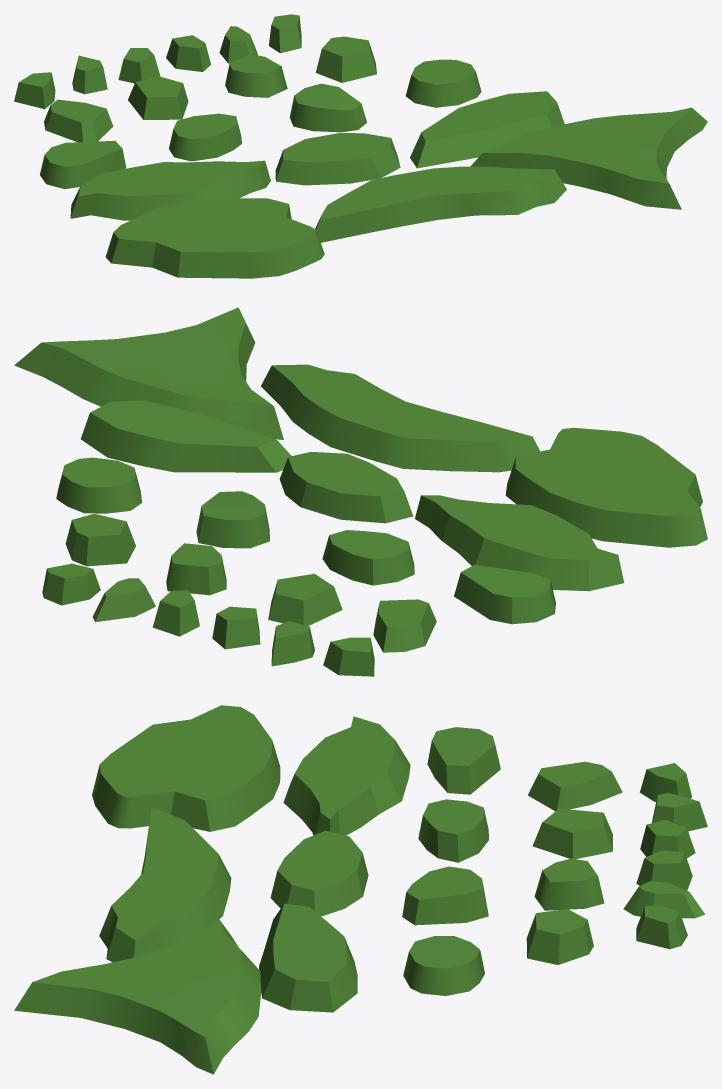
File: grass_layer_crumbs_big_temp.fbx
3 views of the same model, one above another, from view 1: azimuth 30°, elevation 25°; view 2: azimuth 150°, elevation 25°; view 3: azimuth 270°, elevation 25° (orthographic). The views are drawn at different scales.
Visible parts, largest first — view 1: grass_layer_crumb_big_C, grass_layer_crumb_big_A, grass_layer_crumb_big_B, grass_layer_crumb_medium_A, grass_layer_crumb_medium_B, grass_layer_crumb_medium_C, grass_layer_crumb_small_A, grass_layer_crumb_small_C, grass_layer_crumb_small_D, grass_layer_crumb_small_B, grass_layer_crumb_mini_A, grass_layer_crumb_mini_D (+8 smaller); view 2: grass_layer_crumb_big_C, grass_layer_crumb_big_A, grass_layer_crumb_big_B, grass_layer_crumb_medium_A, grass_layer_crumb_medium_B, grass_layer_crumb_medium_C, grass_layer_crumb_small_A, grass_layer_crumb_small_B, grass_layer_crumb_small_D, grass_layer_crumb_small_C, grass_layer_crumb_mini_D, grass_layer_crumb_mini_B (+8 smaller); view 3: grass_layer_crumb_big_A, grass_layer_crumb_big_C, grass_layer_crumb_big_B, grass_layer_crumb_medium_A, grass_layer_crumb_medium_B, grass_layer_crumb_medium_C, grass_layer_crumb_small_C, grass_layer_crumb_small_D, grass_layer_crumb_small_A, grass_layer_crumb_small_B, grass_layer_crumb_mini_A, grass_layer_crumb_mini_B (+8 smaller).
Part boxes in pixels (x1=…): grass_layer_crumb_big_C: x1=105, y1=198, x2=324, y2=278; grass_layer_crumb_big_A: x1=470, y1=107, x2=707, y2=209; grass_layer_crumb_big_B: x1=315, y1=166, x2=566, y2=242; grass_layer_crumb_medium_A: x1=70, y1=160, x2=270, y2=220; grass_layer_crumb_medium_B: x1=410, y1=91, x2=564, y2=168; grass_layer_crumb_medium_C: x1=275, y1=133, x2=400, y2=185; grass_layer_crumb_small_A: x1=40, y1=140, x2=126, y2=189; grass_layer_crumb_small_C: x1=289, y1=83, x2=367, y2=132; grass_layer_crumb_small_D: x1=405, y1=59, x2=481, y2=107; grass_layer_crumb_small_B: x1=169, y1=113, x2=241, y2=161; grass_layer_crumb_mini_A: x1=44, y1=99, x2=113, y2=142; grass_layer_crumb_mini_D: x1=315, y1=36, x2=376, y2=82; grass_layer_crumb_big_C: x1=505, y1=427, x2=707, y2=547; grass_layer_crumb_big_A: x1=14, y1=307, x2=283, y2=439; grass_layer_crumb_big_B: x1=261, y1=364, x2=539, y2=472; grass_layer_crumb_medium_A: x1=415, y1=495, x2=624, y2=591; grass_layer_crumb_medium_B: x1=81, y1=400, x2=291, y2=472; grass_layer_crumb_medium_C: x1=279, y1=452, x2=413, y2=523; grass_layer_crumb_small_A: x1=454, y1=565, x2=555, y2=624; grass_layer_crumb_small_B: x1=322, y1=530, x2=414, y2=585; grass_layer_crumb_small_D: x1=56, y1=457, x2=142, y2=513; grass_layer_crumb_small_C: x1=196, y1=491, x2=269, y2=548; grass_layer_crumb_mini_D: x1=65, y1=513, x2=135, y2=566; grass_layer_crumb_mini_B: x1=268, y1=573, x2=342, y2=625; grass_layer_crumb_big_A: x1=14, y1=919, x2=261, y2=1074; grass_layer_crumb_big_C: x1=92, y1=705, x2=280, y2=831; grass_layer_crumb_big_B: x1=99, y1=808, x2=231, y2=962; grass_layer_crumb_medium_A: x1=283, y1=716, x2=410, y2=835; grass_layer_crumb_medium_B: x1=259, y1=903, x2=357, y2=1012; grass_layer_crumb_medium_C: x1=270, y1=830, x2=368, y2=916; grass_layer_crumb_small_C: x1=402, y1=866, x2=488, y2=925; grass_layer_crumb_small_D: x1=403, y1=936, x2=484, y2=995; grass_layer_crumb_small_A: x1=427, y1=727, x2=500, y2=794; grass_layer_crumb_small_B: x1=418, y1=799, x2=488, y2=862; grass_layer_crumb_mini_A: x1=528, y1=761, x2=622, y2=811; grass_layer_crumb_mini_B: x1=532, y1=808, x2=612, y2=859.
Bounding box in the file's own units: 470 × 18.02 × 400.
